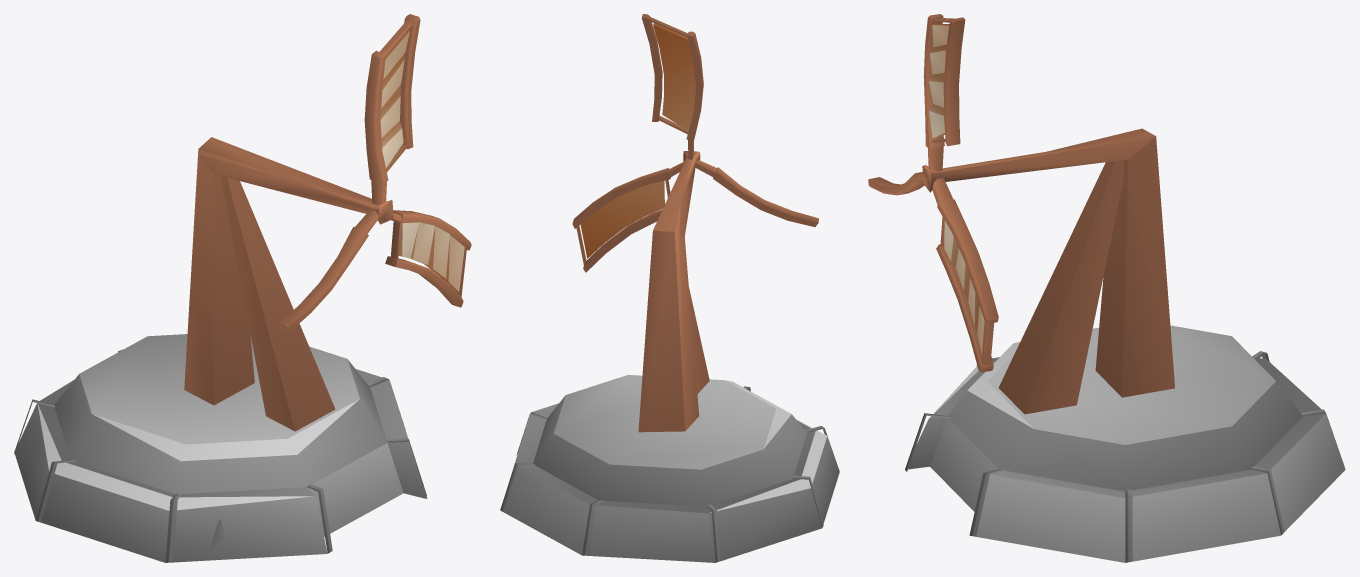
File: towerlvl1.glb
3 views of the same model, side by side, from view 1: azimuth 30°, elevation 25°; view 2: azimuth 150°, elevation 25°; view 3: azimuth 270°, elevation 25° (orthographic). The views are drawn at different scales.
Visible parts, largest first — view 1: towerlvl1, Cube.016, Cube.030; view 2: towerlvl1, Cube.016, Cube.030; view 3: towerlvl1, Cube.016, Cube.030.
Boxes of the visible parts, x1,y1,x2,y2 form: towerlvl1: (14,334,427,562); Cube.016: (184,137,393,431); Cube.030: (278,14,471,330); towerlvl1: (500,375,839,562); Cube.016: (638,151,709,432); Cube.030: (572,14,818,272); towerlvl1: (905,325,1345,562); Cube.016: (922,128,1174,414); Cube.030: (868,14,998,372).
Size of the model in its own units: 3.69 by 4.68 by 4.
1 material, 1 textured.
